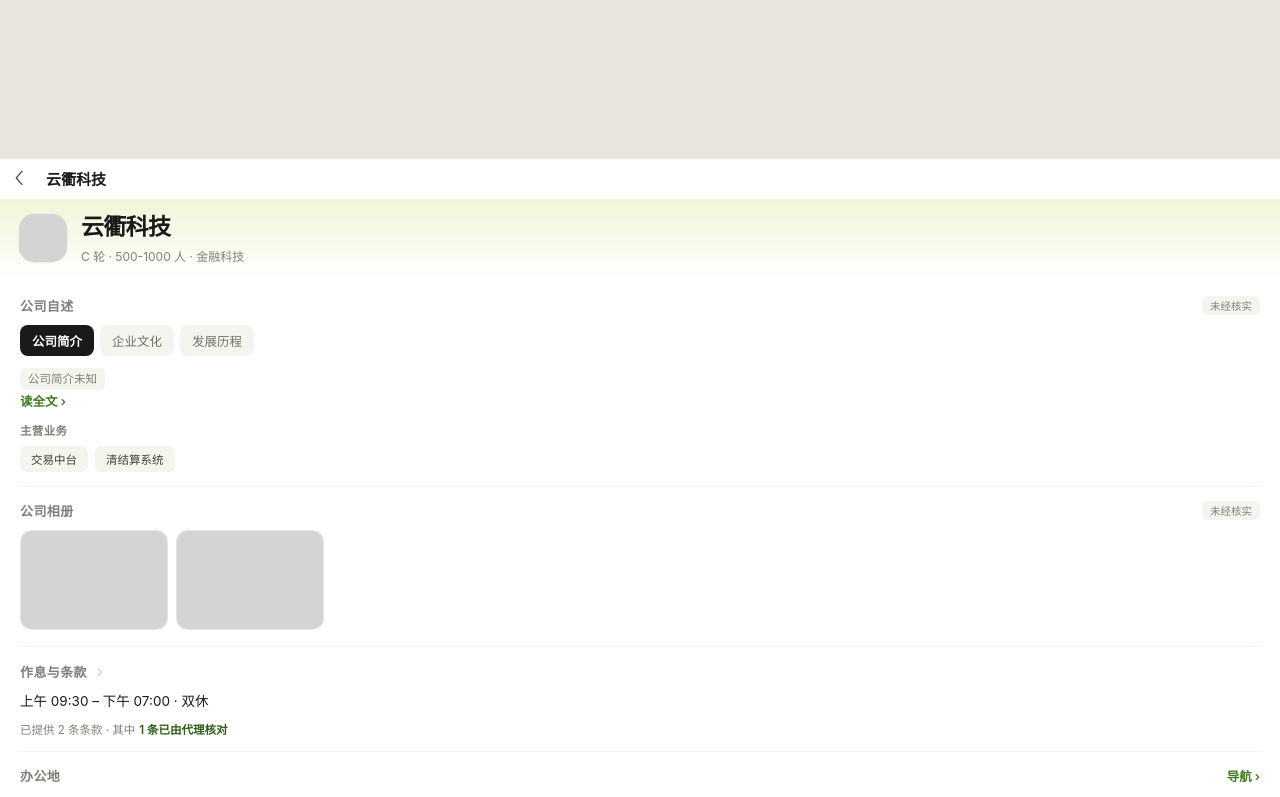
Test case: 企业公开页展示 · 主屏与公司自述 › 全文五部分缺失时逐部分显示未知，不丢区块
(page scrolled)
Click the button "读全文 ›" at (43, 401), box [20,391,66,410]
(page scrolled)
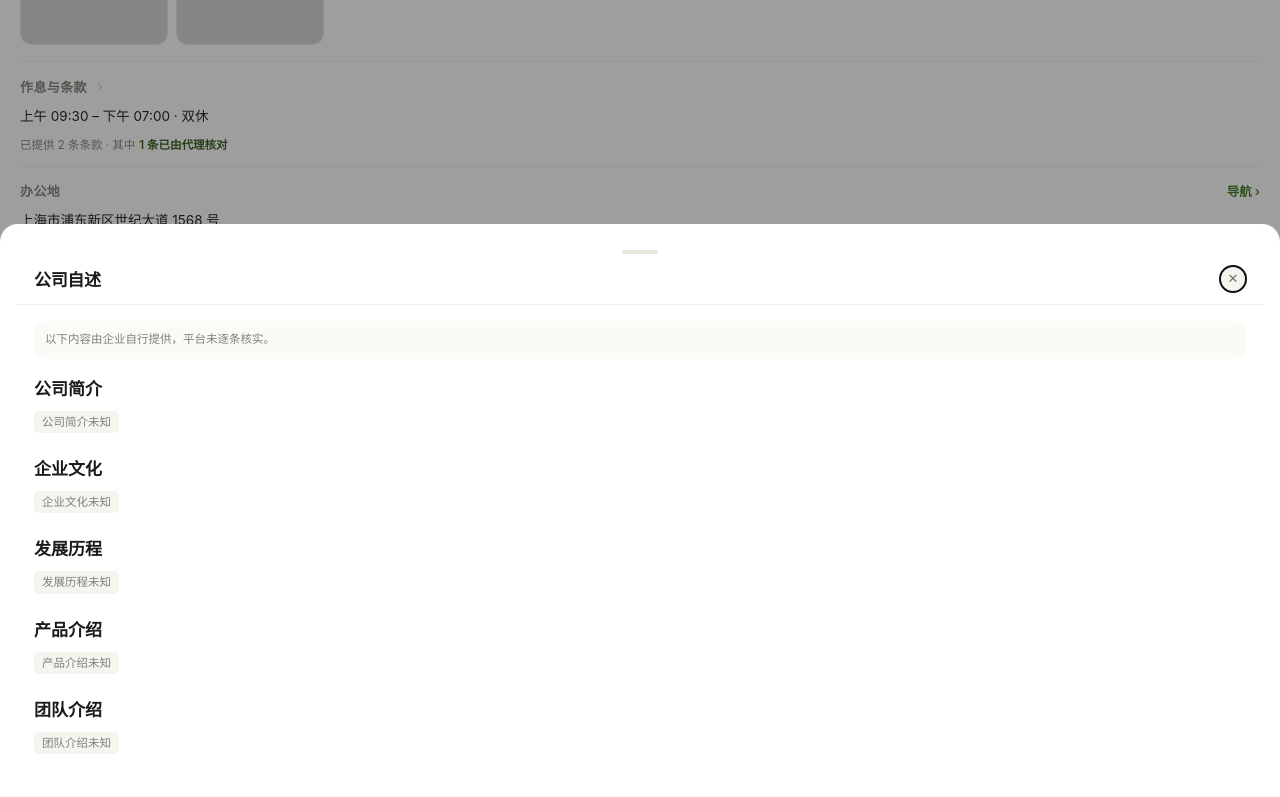
Now the text "企业文化未知" is shown, box [34,491,119,513]
Now the text "发展历程未知" is shown, box [34,571,119,594]
Now the text "产品介绍未知" is shown, box [34,652,119,674]
